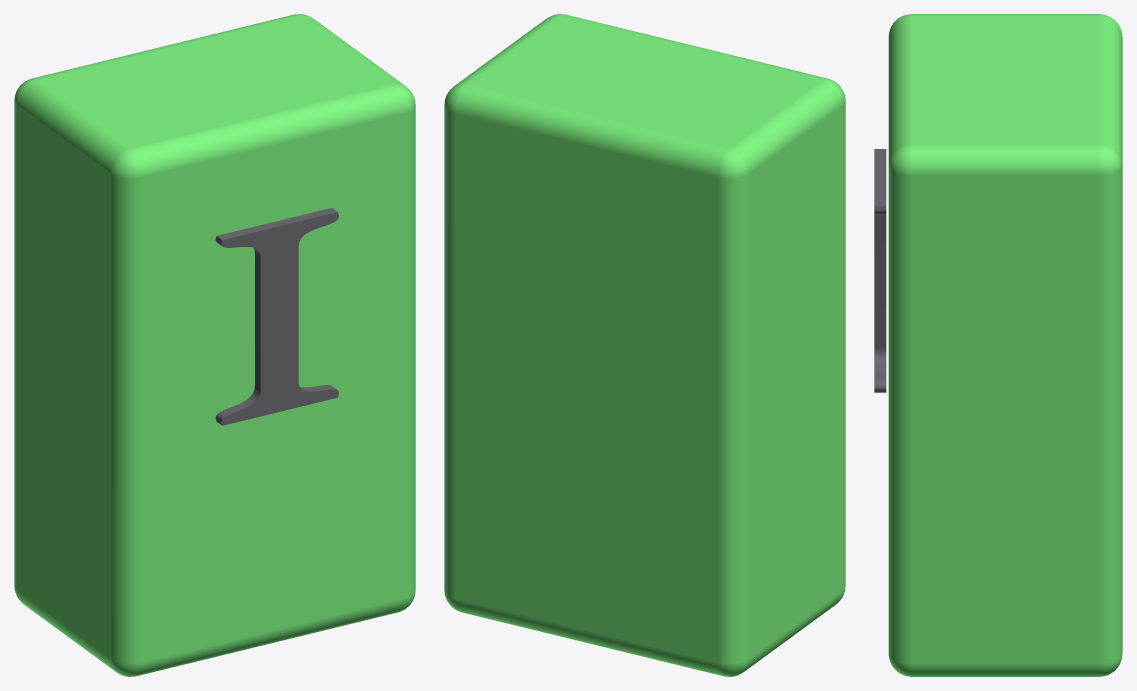
File: pin_1.gltf
3 views of the same model, side by side, from view 1: azimuth 30°, elevation 25°; view 2: azimuth 150°, elevation 25°; view 3: azimuth 270°, elevation 25° (orthographic).
Parts seen in each view (by area): view 1: White, Black; view 2: White; view 3: White, Black.
Part boxes in pixels (x1,y1,x2,y2): White: [14, 14, 415, 676]; Black: [215, 208, 338, 425]; White: [444, 14, 845, 676]; White: [888, 14, 1122, 676]; Black: [874, 149, 886, 392].
Bounding box in the file's own units: 1.5 × 2.5 × 1.06.
